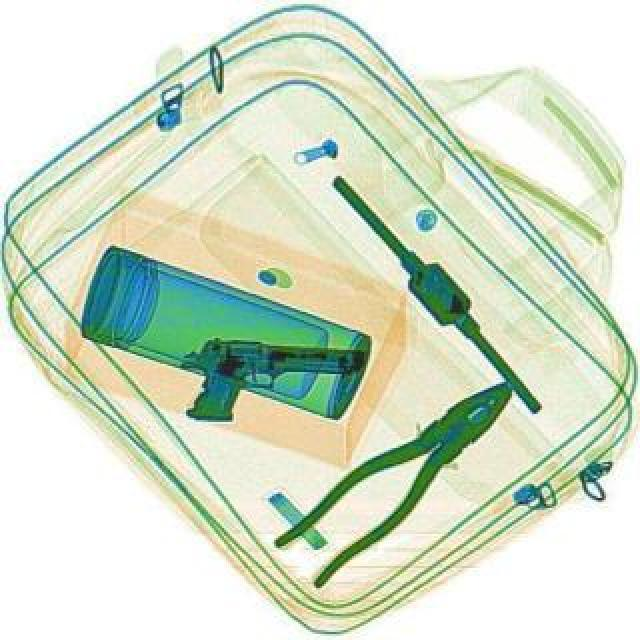gun: (172, 336, 364, 428)
wrench: (266, 358, 534, 590)
